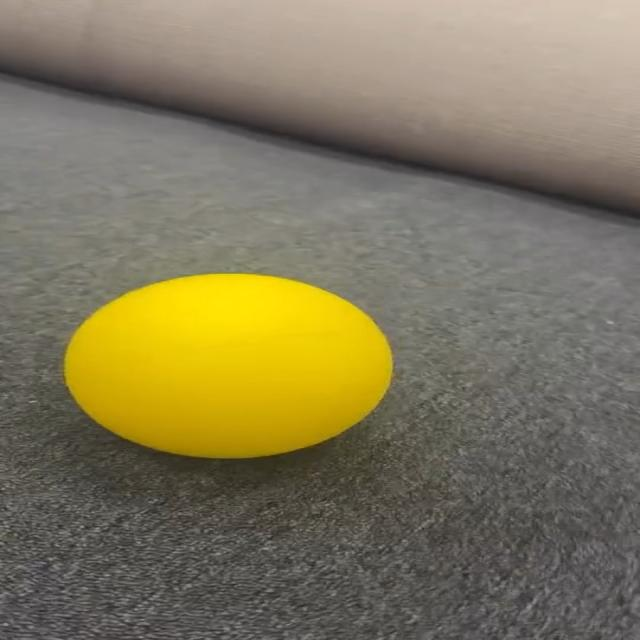Fuels: (66, 273, 394, 456)
